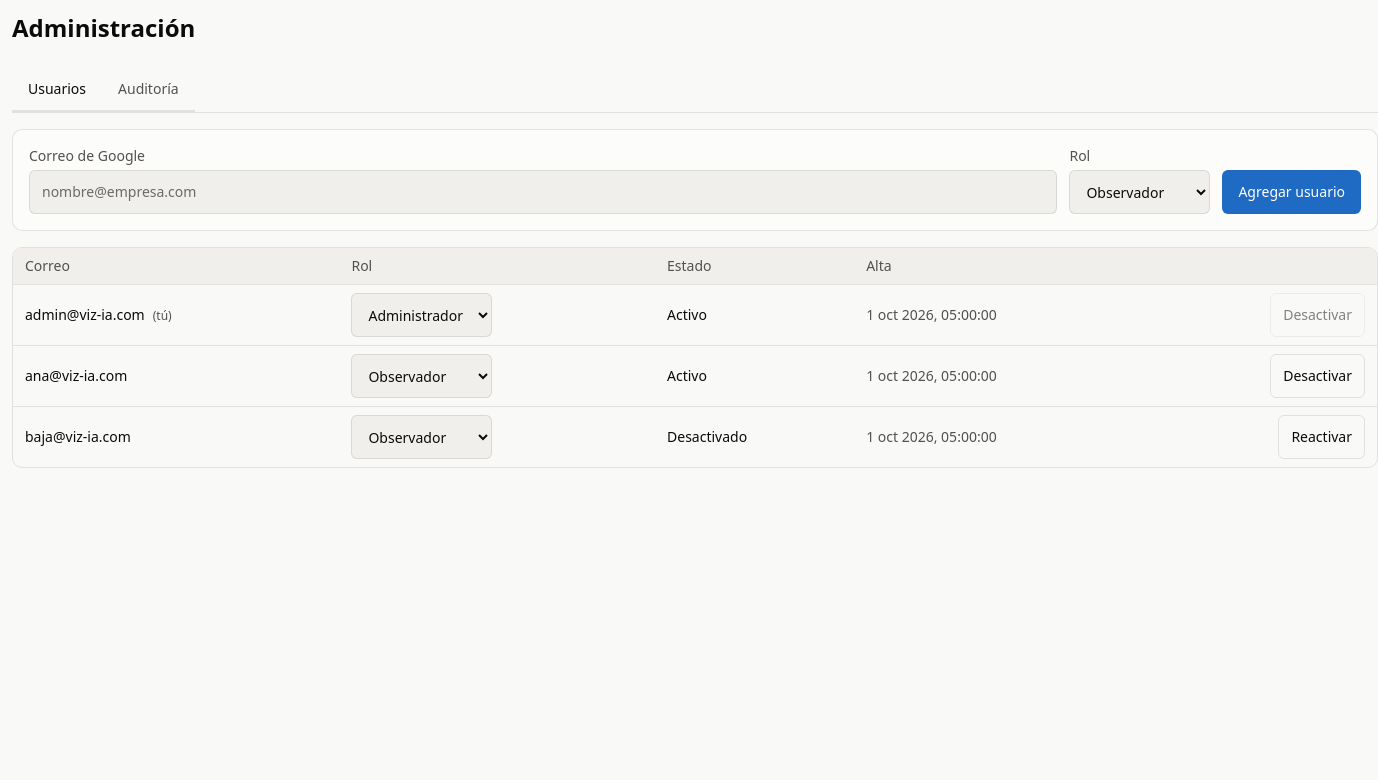
Scenario: AdminPage - usuarios › cambiar el rol de otro usuario envía el nuevo rol; un rechazo del servidor se avisa
The image size is (1378, 780).
Select "Administrador" in the dropdown named "Rol de ana@viz-ia.com" at (422, 376), box [351, 354, 492, 398]
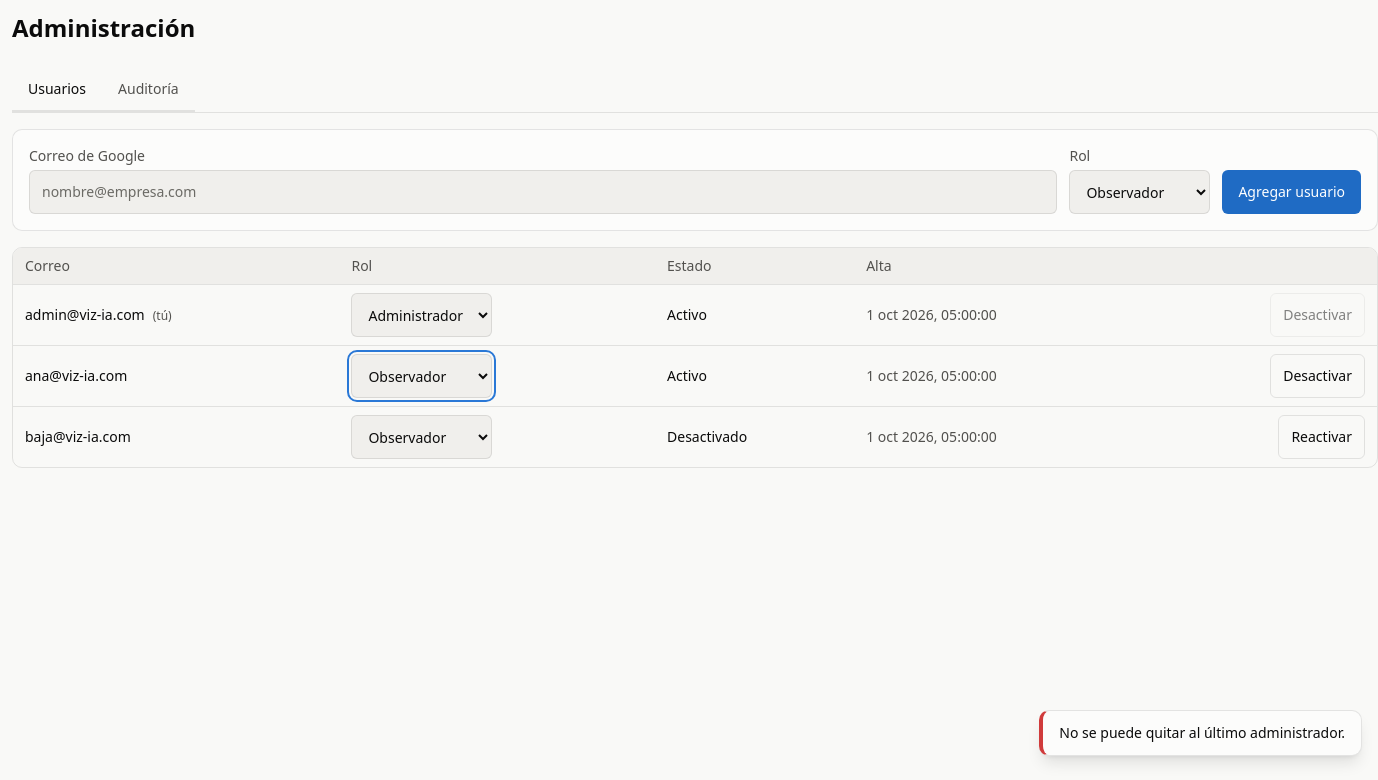
Check: the text "No se puede quitar al último administrador." is shown, box [1039, 710, 1362, 756]
